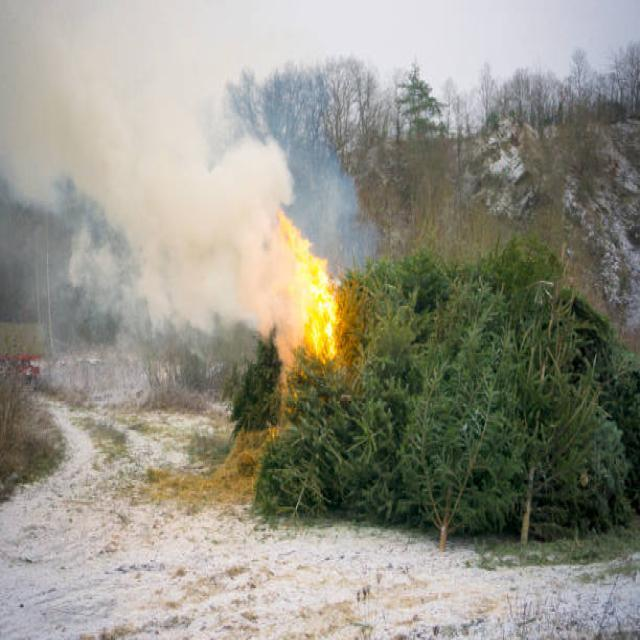Fire: (282, 206, 342, 364)
Smoke: (0, 0, 282, 364)
